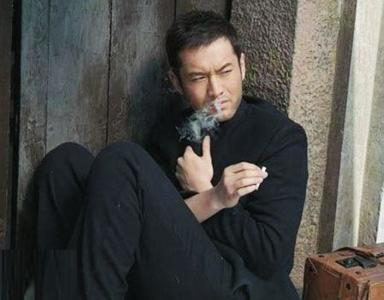person: (28, 9, 309, 300)
